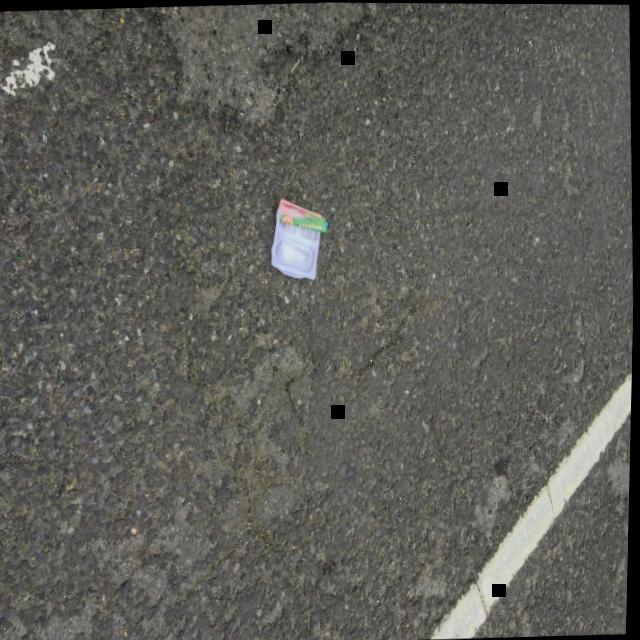Disposable food container: (271, 198, 322, 279)
Plastic film: (279, 199, 328, 232)
